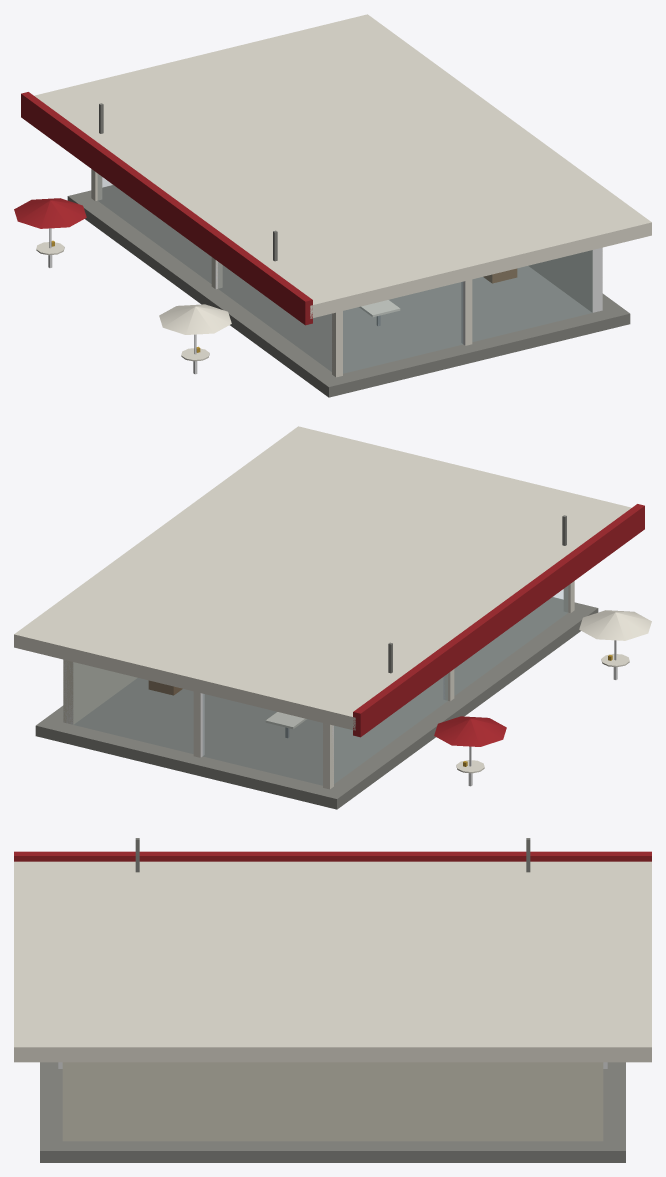
Rendered from diner-glass.glb.
3 renders of one model, top to bottom at view 1: azimuth 30°, elevation 25°; view 2: azimuth 150°, elevation 25°; view 3: azimuth 270°, elevation 25°, orthographic. The views are drawn at different scales.
Parts seen in each view (by area): view 1: 03_#e4e0d4, 00_#8a8a84, 01_#a8c8d0_noshadow, 04_paint0_noshadow, 02_#d8d4c4, 13_paint0, solid, 11_#e4e0d4_r320; view 2: 03_#e4e0d4, 00_#8a8a84, 01_#a8c8d0_noshadow, 04_paint0_noshadow, 02_#d8d4c4, 13_paint0, 11_#e4e0d4_r320; view 3: 03_#e4e0d4, 02_#d8d4c4, 00_#8a8a84, 04_paint0_noshadow.
Boxes of the visible parts, x1,y1,x2,y2 form: 03_#e4e0d4: (34, 14, 651, 377); 00_#8a8a84: (67, 185, 630, 397); 01_#a8c8d0_noshadow: (98, 174, 592, 373); 04_paint0_noshadow: (21, 92, 312, 325); 02_#d8d4c4: (528, 250, 602, 312); 13_paint0: (14, 198, 86, 228); solid: (592, 248, 602, 312); 11_#e4e0d4_r320: (36, 242, 209, 361); 03_#e4e0d4: (14, 426, 651, 789); 00_#8a8a84: (35, 597, 598, 809); 01_#a8c8d0_noshadow: (73, 586, 567, 785); 04_paint0_noshadow: (353, 504, 644, 737); 02_#d8d4c4: (63, 660, 137, 724); 13_paint0: (434, 716, 506, 746); 11_#e4e0d4_r320: (456, 654, 629, 773); 03_#e4e0d4: (14, 861, 651, 1062); 02_#d8d4c4: (62, 1062, 603, 1141); 00_#8a8a84: (40, 1062, 625, 1162); 04_paint0_noshadow: (14, 851, 651, 861).
Bounding box in the file's own units: 16.7 × 5.2 × 19.6.
